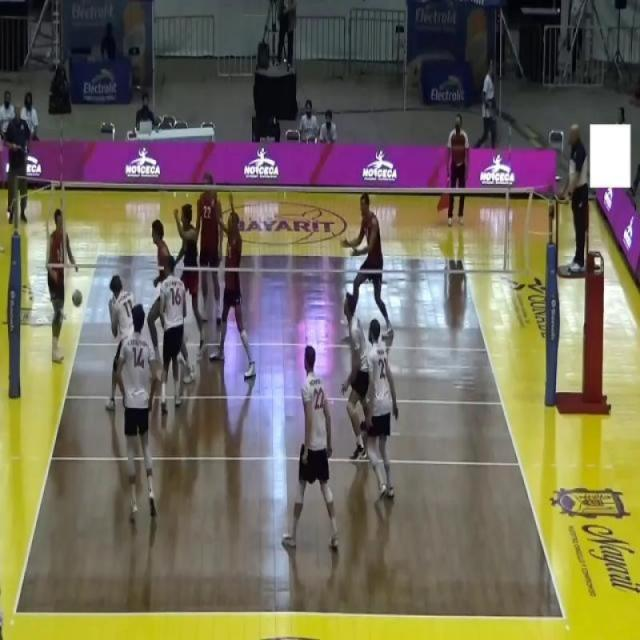volleyball: (71, 288, 83, 308)
